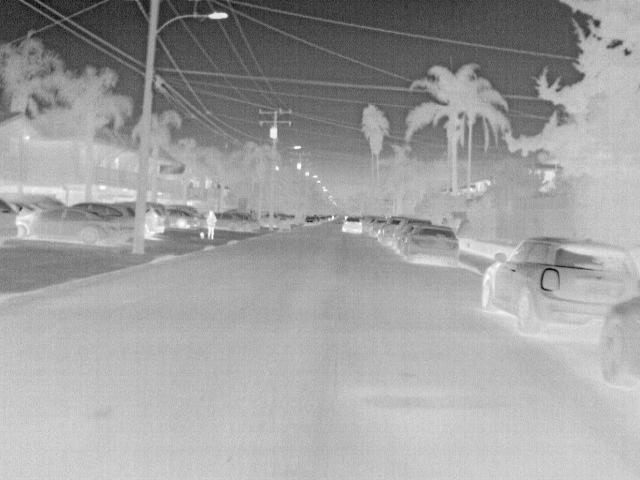car: (477, 238, 635, 340), (598, 294, 637, 391), (16, 210, 116, 244), (69, 200, 133, 244), (405, 224, 458, 267), (393, 218, 431, 248), (164, 204, 203, 230), (142, 200, 166, 239), (164, 208, 199, 234), (216, 212, 259, 233), (379, 218, 406, 248), (340, 215, 363, 234), (368, 220, 386, 237), (302, 216, 317, 228)
dog: (197, 231, 206, 240)
person: (204, 209, 218, 240)
